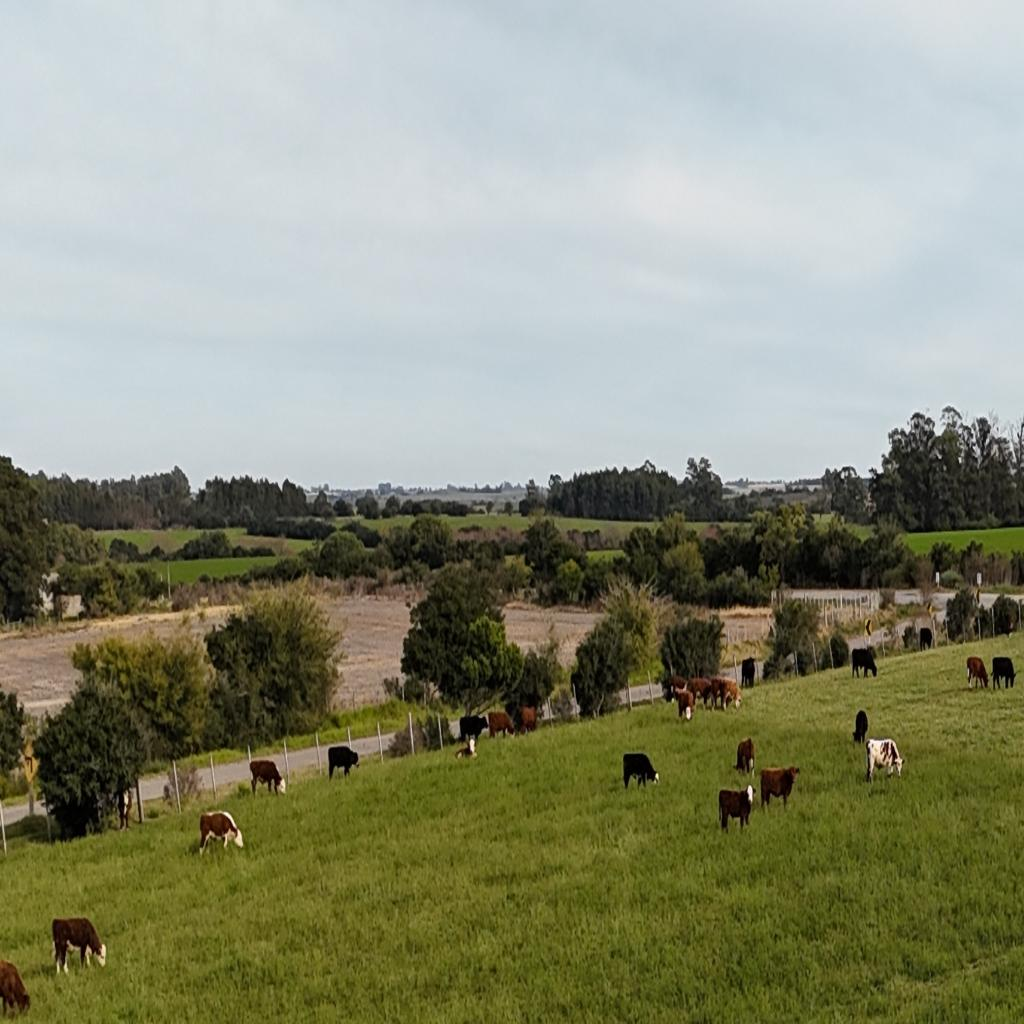cow: (50, 916, 105, 974), (862, 737, 906, 787), (759, 766, 800, 813), (200, 811, 244, 854), (0, 958, 31, 1019), (718, 784, 754, 834), (249, 759, 286, 797), (622, 752, 658, 790), (708, 677, 742, 711), (328, 745, 360, 781), (458, 712, 488, 744), (991, 656, 1019, 690), (688, 677, 714, 710), (734, 738, 756, 776), (670, 688, 696, 720), (852, 648, 878, 679), (487, 711, 514, 740), (966, 656, 989, 690), (116, 789, 134, 831), (852, 708, 869, 746), (517, 705, 538, 735), (667, 676, 688, 703), (454, 739, 477, 759), (864, 739, 874, 785), (919, 627, 933, 651), (1005, 616, 1015, 636)
